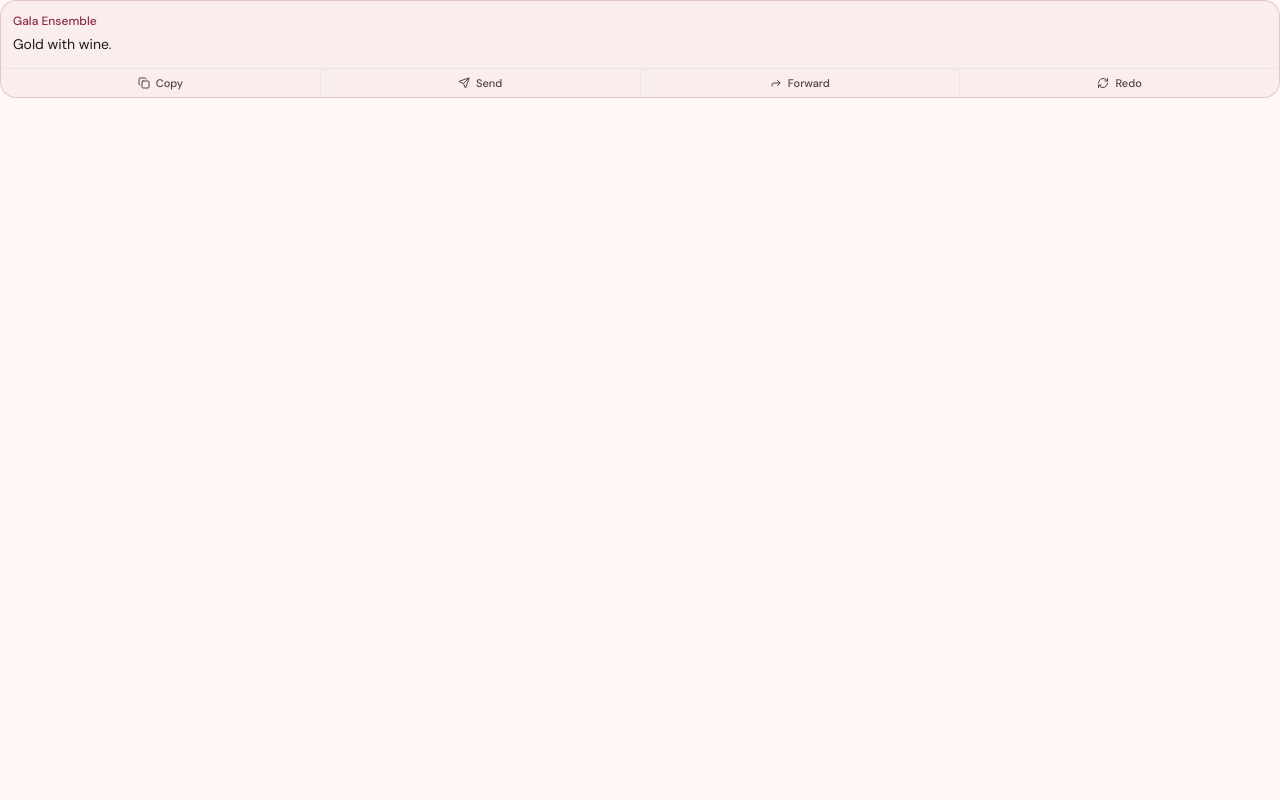
Scenario: Forward › offers only clients a delivery can actually reach
The image size is (1280, 800).
What coordinates should you click on to do the following:
click the button "Forward"
I would click on:
 (800, 83)
Its box is x1=640 y1=69 x2=960 y2=97.
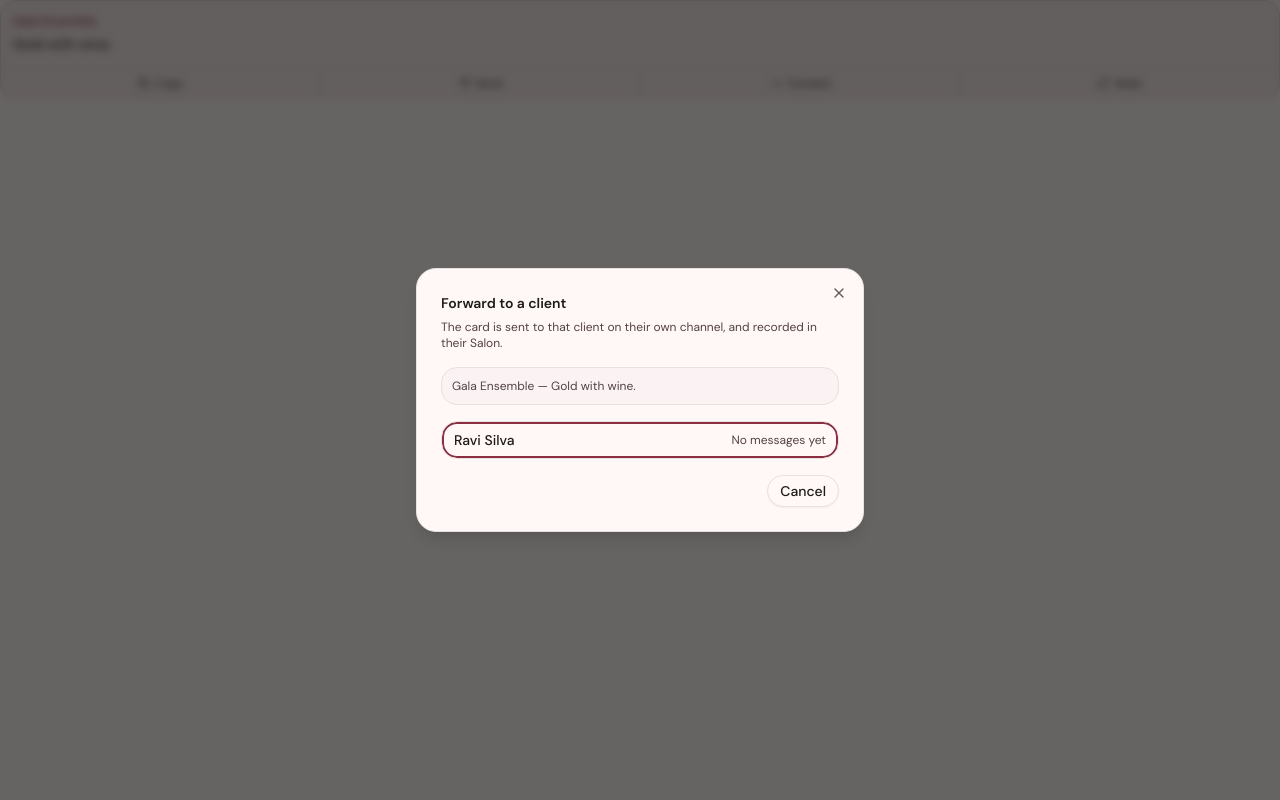
Result: the dialog shows "Gala Ensemble — Gold with wine." at x1=452 y1=378 x2=636 y2=394
Result: the button "Ravi Silva No messages yet" is shown at x1=441 y1=421 x2=839 y2=459
